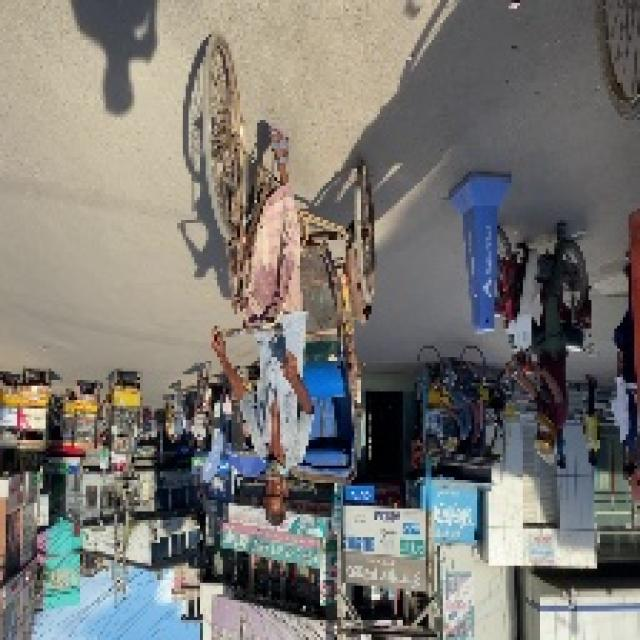bike: (496, 233, 598, 386)
rickshaw: (190, 47, 377, 513), (8, 366, 54, 451), (102, 374, 149, 457), (72, 387, 102, 449)
